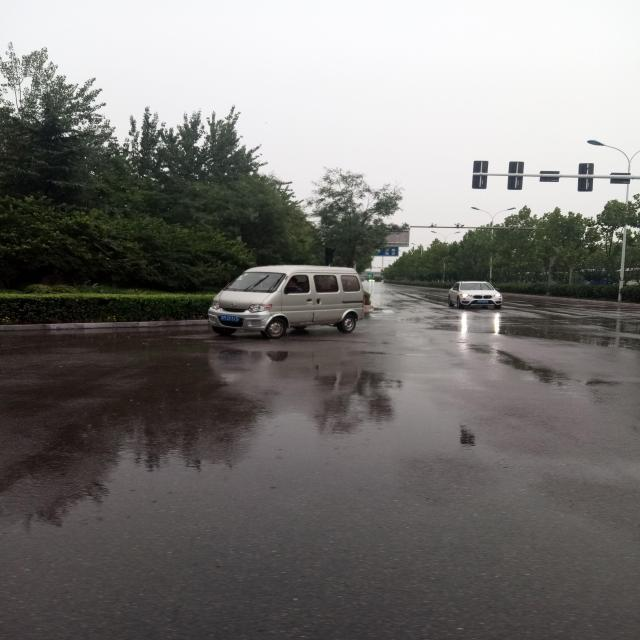car: (208, 262, 364, 340), (446, 282, 503, 309)
